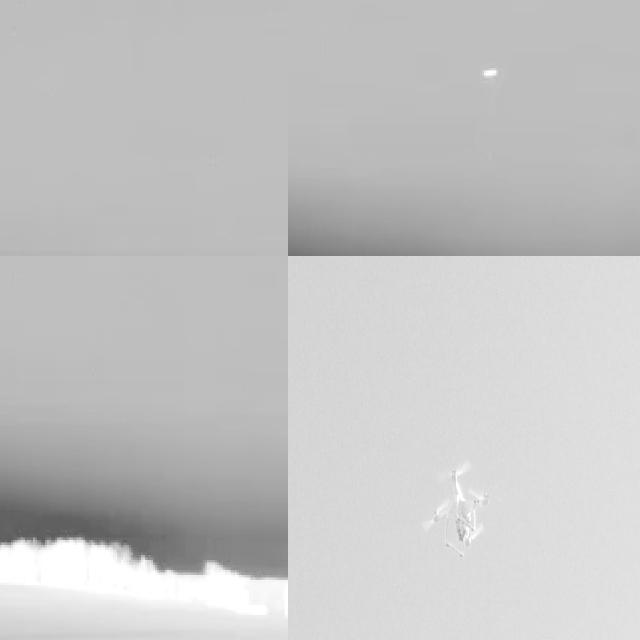1: (473, 62, 507, 94)
drone: (424, 462, 494, 560)
